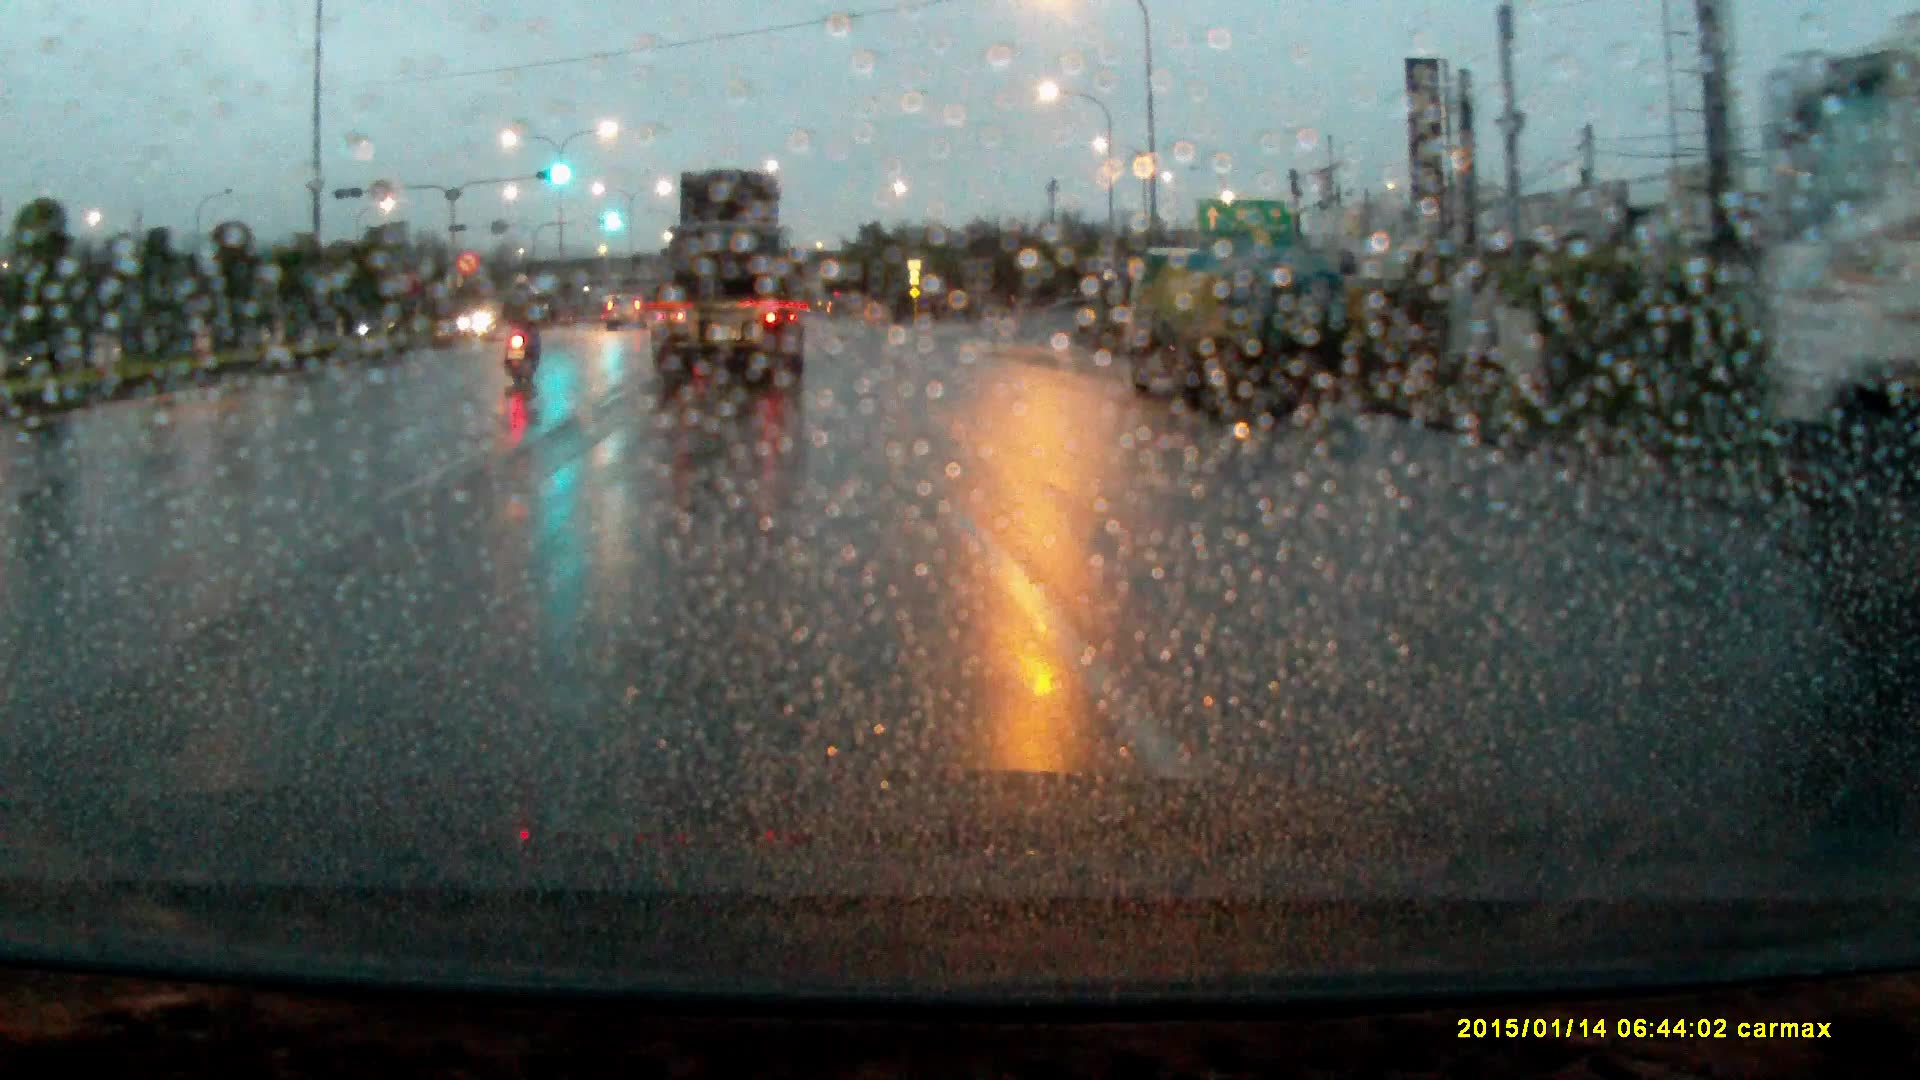rider: (500, 272, 550, 389)
vehicle: (1117, 244, 1358, 420), (649, 167, 810, 397), (606, 295, 646, 332)
